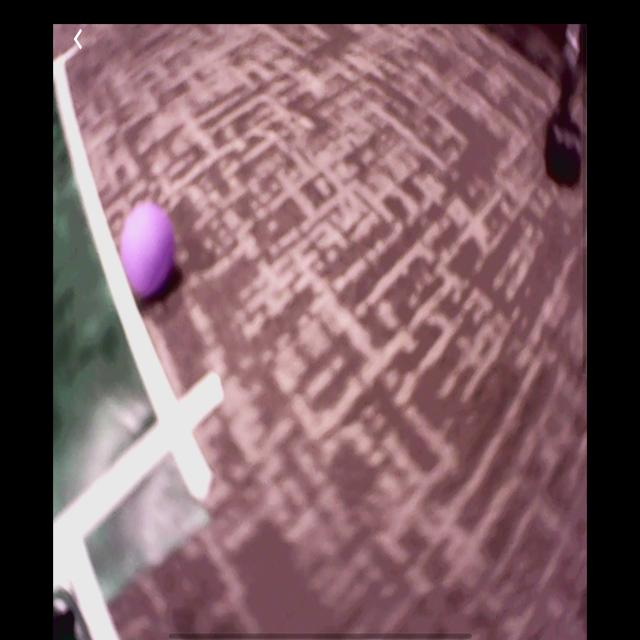ball: (118, 198, 176, 301)
